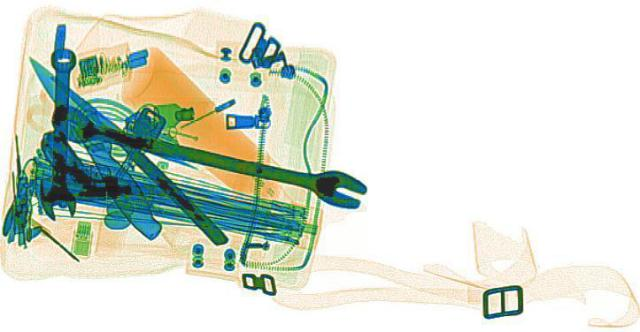Gun: (36, 125, 170, 195)
Knife: (45, 73, 234, 243), (21, 53, 170, 239)
Wrench: (36, 108, 384, 208), (39, 47, 80, 217)
